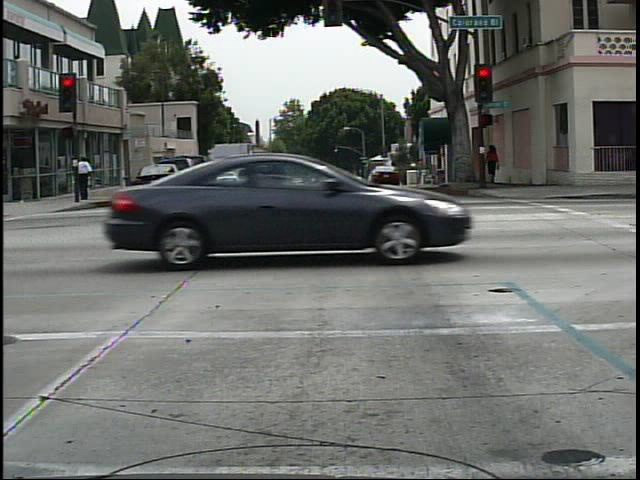person: (485, 139, 504, 188), (78, 151, 96, 193)
